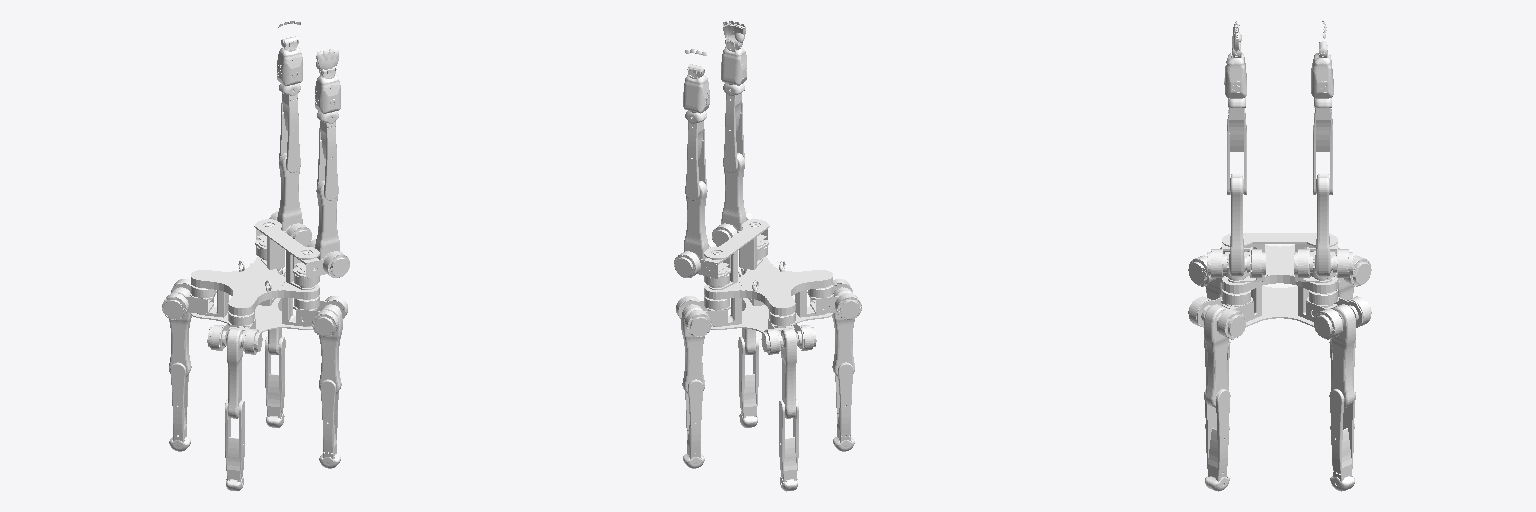
--- Facts derived from the render (not from the file) ---
The picture shows the robot from 3 angles, left to right: view 1: azimuth 30°, elevation 25°; view 2: azimuth 150°, elevation 25°; view 3: azimuth 270°, elevation 25°; orthographic projection.
Model moonbot01 with 32 links and 31 joints (24 revolute, 7 fixed), rooted at base_link, posed every joint at zero.
Visible links, largest first — view 1: body_link, left_arm_link3, right_arm_link3, f_right_leg_link1, right_arm_link1, f_right_leg_link3, b_left_leg_link3, b_left_leg_link1, f_left_leg_link3, b_right_leg_link3, b_right_leg_link1, b_right_leg_link2 (+7 smaller); view 2: body_link, right_arm_link3, left_arm_link3, f_left_leg_link1, left_arm_link1, f_left_leg_link3, b_right_leg_link3, b_right_leg_link1, f_right_leg_link3, b_left_leg_link3, b_left_leg_link1, b_left_leg_link2 (+7 smaller); view 3: body_link, f_left_leg_link3, f_right_leg_link3, f_left_leg_link1, f_right_leg_link1, f_left_leg_link2, f_right_leg_link2, left_arm_link2, right_arm_link2, left_arm_link3, right_arm_link3, right_arm_link1 (+5 smaller).
Link boxes in pixels (box(x1,y1,x2,y2)): body_link: box(190, 219, 319, 332); left_arm_link3: box(279, 83, 300, 172); right_arm_link3: box(317, 111, 338, 200); f_right_leg_link1: box(293, 295, 347, 336); right_arm_link1: box(293, 239, 349, 287); f_right_leg_link3: box(319, 380, 340, 468); b_left_leg_link3: box(169, 363, 190, 451); b_left_leg_link1: box(162, 279, 216, 319); f_left_leg_link3: box(265, 336, 285, 427); b_right_leg_link3: box(225, 399, 244, 490); b_right_leg_link1: box(207, 312, 262, 354); b_right_leg_link2: box(226, 328, 242, 418); body_link: box(704, 219, 833, 332); right_arm_link3: box(723, 83, 744, 172); left_arm_link3: box(685, 111, 706, 200); f_left_leg_link1: box(676, 295, 730, 336); left_arm_link1: box(674, 239, 730, 287); f_left_leg_link3: box(683, 380, 704, 468); b_right_leg_link3: box(833, 363, 854, 451); b_right_leg_link1: box(807, 279, 861, 319); f_right_leg_link3: box(738, 336, 758, 427); b_left_leg_link3: box(779, 399, 798, 491); b_left_leg_link1: box(761, 312, 816, 354); b_left_leg_link2: box(781, 328, 798, 418); body_link: box(1222, 233, 1337, 326); f_left_leg_link3: box(1329, 389, 1355, 491); f_right_leg_link3: box(1204, 389, 1230, 491); f_left_leg_link1: box(1306, 289, 1371, 339); f_right_leg_link1: box(1188, 289, 1253, 339); f_left_leg_link2: box(1331, 304, 1355, 407); f_right_leg_link2: box(1204, 304, 1228, 407); left_arm_link2: box(1315, 174, 1332, 276); right_arm_link2: box(1229, 174, 1246, 276); left_arm_link3: box(1313, 98, 1332, 194); right_arm_link3: box(1227, 97, 1246, 194); right_arm_link1: box(1207, 243, 1265, 280).
Bounding box of the posed robot: 0.5996 × 0.5996 × 1.69 m (x, y, z).
25 mesh visuals loaded from 13 distinct referenced files (13 binary STL).

URDF robot description (moonbot01):
<?xml version="1.0" ?>
<!-- =================================================================================== -->
<!-- |    This document was autogenerated by xacro from moonbot01.urdf.xacro           | -->
<!-- |    EDITING THIS FILE BY HAND IS NOT RECOMMENDED                                 | -->
<!-- =================================================================================== -->
<robot name="moonbot01">
  <!-- link rviz colors -->
  <material name="White">
    <color rgba="1 1 1 1"/>
  </material>
  <material name="Black">
    <color rgba="0 0 0 1"/>
  </material>
  <!-- <xacro:include filename="$(find moonbot_description)/urdf/yonaka_0722/common_gazebo.xacro"/> -->
  <!-- foot -->
  <!-- foot -->
  <ros2_control name="IsaacSystem" type="system">
    <hardware>
      <plugin>topic_based_ros2_control/TopicBasedSystem</plugin>
      <param name="joint_commands_topic">/IsaacSystem/joint_command</param>
      <param name="joint_states_topic">/IsaacSystem/joint_states</param>
      <param name="sum_wrapped_joint_states">true</param>
      <param name="use_initial_states_as_initial_commands">false</param>
      <param name="wait_for_reaching_initial_values">true</param>
    </hardware>
    <joint name="left_arm_joint1">
      <command_interface name="position">
        <param name="min">-0.2617993877991494</param>
        <param name="max">3.141592653589793</param>
      </command_interface>
      <state_interface name="position">
        <!-- Set initial joint position -->
        <param name="initial_value">3.141592653589793</param>
      </state_interface>
      <state_interface name="velocity"/>
      <state_interface name="effort"/>
    </joint>
    <joint name="left_arm_joint2">
      <command_interface name="position">
        <param name="min">-2.6179938779914944</param>
        <param name="max">2.6179938779914944</param>
      </command_interface>
      <state_interface name="position">
        <!-- Set initial joint position -->
        <param name="initial_value">1.047</param>
      </state_interface>
      <state_interface name="velocity"/>
      <state_interface name="effort"/>
    </joint>
    <joint name="left_arm_joint3">
      <command_interface name="position">
        <param name="min">-2.6179938779914944</param>
        <param name="max">2.6179938779914944</param>
      </command_interface>
      <state_interface name="position">
        <!-- Set initial joint position -->
        <param name="initial_value">-2.356</param>
      </state_interface>
      <state_interface name="velocity"/>
      <state_interface name="effort"/>
    </joint>
    <joint name="left_arm_joint4">
      <command_interface name="position">
        <param name="min">-6.283185307179586</param>
        <param name="max">6.283185307179586</param>
      </command_interface>
      <state_interface name="position">
        <!-- Set initial joint position -->
        <param name="initial_value">3.141592653589793</param>
      </state_interface>
      <state_interface name="velocity"/>
      <state_interface name="effort"/>
    </joint>
    <joint name="left_arm_joint5">
      <command_interface name="position">
        <param name="min">-0.5235987755982988</param>
        <param name="max">0.5235987755982988</param>
      </command_interface>
      <state_interface name="position">
        <!-- Set initial joint position -->
        <param name="initial_value">0.0</param>
      </state_interface>
      <state_interface name="velocity"/>
      <state_interface name="effort"/>
    </joint>
    <joint name="left_arm_joint6">
      <command_interface name="position">
        <param name="min">-1.5707963267948966</param>
        <param name="max">1.5707963267948966</param>
      </command_interface>
      <state_interface name="position">
        <!-- Set initial joint position -->
        <param name="initial_value">0.0</param>
      </state_interface>
      <state_interface name="velocity"/>
      <state_interface name="effort"/>
    </joint>
    <joint name="right_arm_joint1">
      <command_interface name="position">
        <param name="min">-0.2617993877991494</param>
        <param name="max">3.141592653589793</param>
      </command_interface>
      <state_interface name="position">
        <!-- Set initial joint position -->
        <param name="initial_value">-3.141592653589793</param>
      </state_interface>
      <state_interface name="velocity"/>
      <state_interface name="effort"/>
    </joint>
    <joint name="right_arm_joint2">
      <command_interface name="position">
        <param name="min">-2.6179938779914944</param>
        <param name="max">2.6179938779914944</param>
      </command_interface>
      <state_interface name="position">
        <!-- Set initial joint position -->
        <param name="initial_value">1.047</param>
      </state_interface>
      <state_interface name="velocity"/>
      <state_interface name="effort"/>
    </joint>
    <joint name="right_arm_joint3">
      <command_interface name="position">
        <param name="min">-2.6179938779914944</param>
        <param name="max">2.6179938779914944</param>
      </command_interface>
      <state_interface name="position">
        <!-- Set initial joint position -->
        <param name="initial_value">-2.356</param>
      </state_interface>
      <state_interface name="velocity"/>
      <state_interface name="effort"/>
    </joint>
    <joint name="right_arm_joint4">
      <command_interface name="position">
        <param name="min">-6.283185307179586</param>
        <param name="max">6.283185307179586</param>
      </command_interface>
      <state_interface name="position">
        <!-- Set initial joint position -->
        <param name="initial_value">3.141592653589793</param>
      </state_interface>
      <state_interface name="velocity"/>
      <state_interface name="effort"/>
    </joint>
    <joint name="right_arm_joint5">
      <command_interface name="position">
        <param name="min">-0.5235987755982988</param>
        <param name="max">0.5235987755982988</param>
      </command_interface>
      <state_interface name="position">
        <!-- Set initial joint position -->
        <param name="initial_value">0.0</param>
      </state_interface>
      <state_interface name="velocity"/>
      <state_interface name="effort"/>
    </joint>
    <joint name="right_arm_joint6">
      <command_interface name="position">
        <param name="min">-1.5707963267948966</param>
        <param name="max">1.5707963267948966</param>
      </command_interface>
      <state_interface name="position">
        <!-- Set initial joint position -->
        <param name="initial_value">0.0</param>
      </state_interface>
      <state_interface name="velocity"/>
      <state_interface name="effort"/>
    </joint>
    <joint name="f_left_leg_joint1">
      <command_interface name="position">
        <param name="min">-1.5707963267948966</param>
        <param name="max">1.5707963267948966</param>
      </command_interface>
      <state_interface name="position">
        <!-- Set initial joint position -->
        <param name="initial_value">0.0</param>
      </state_interface>
      <state_interface name="velocity"/>
      <state_interface name="effort"/>
    </joint>
    <joint name="f_left_leg_joint2">
      <command_interface name="position">
        <param name="min">-2.6179938779914944</param>
        <param name="max">0.17453292519943295</param>
      </command_interface>
      <state_interface name="position">
        <!-- Set initial joint position -->
        <param name="initial_value">-0.96</param>
      </state_interface>
      <state_interface name="velocity"/>
      <state_interface name="effort"/>
    </joint>
    <joint name="f_left_leg_joint3">
      <command_interface name="position">
        <param name="min">-2.792526803190927</param>
        <param name="max">2.0943951023931953</param>
      </command_interface>
      <state_interface name="position">
        <!-- Set initial joint position -->
        <param name="initial_value">1.017</param>
      </state_interface>
      <state_interface name="velocity"/>
      <state_interface name="effort"/>
    </joint>
    <joint name="f_right_leg_joint1">
      <command_interface name="position">
        <param name="min">-1.5707963267948966</param>
        <param name="max">1.5707963267948966</param>
      </command_interface>
      <state_interface name="position">
        <!-- Set initial joint position -->
        <param name="initial_value">0.0</param>
      </state_interface>
      <state_interface name="velocity"/>
      <state_interface name="effort"/>
    </joint>
    <joint name="f_right_leg_joint2">
      <command_interface name="position">
        <param name="min">-2.6179938779914944</param>
        <param name="max">0.17453292519943295</param>
      </command_interface>
      <state_interface name="position">
        <!-- Set initial joint position -->
        <param name="initial_value">-0.96</param>
      </state_interface>
      <state_interface name="velocity"/>
      <state_interface name="effort"/>
    </joint>
    <joint name="f_right_leg_joint3">
      <command_interface name="position">
        <param name="min">-2.792526803190927</param>
        <param name="max">2.0943951023931953</param>
      </command_interface>
      <state_interface name="position">
        <!-- Set initial joint position -->
        <param name="initial_value">1.017</param>
      </state_interface>
      <state_interface name="velocity"/>
      <state_interface name="effort"/>
    </joint>
    <joint name="b_left_leg_joint1">
      <command_interface name="position">
        <param name="min">-1.5707963267948966</param>
        <param name="max">1.5707963267948966</param>
      </command_interface>
      <state_interface name="position">
        <!-- Set initial joint position -->
        <param name="initial_value">0.0</param>
      </state_interface>
      <state_interface name="velocity"/>
      <state_interface name="effort"/>
    </joint>
    <joint name="b_left_leg_joint2">
      <command_interface name="position">
        <param name="min">-2.6179938779914944</param>
        <param name="max">0.17453292519943295</param>
      </command_interface>
      <state_interface name="position">
        <!-- Set initial joint position -->
        <param name="initial_value">-0.96</param>
      </state_interface>
      <state_interface name="velocity"/>
      <state_interface name="effort"/>
    </joint>
    <joint name="b_left_leg_joint3">
      <command_interface name="position">
        <param name="min">-2.792526803190927</param>
        <param name="max">2.0943951023931953</param>
      </command_interface>
      <state_interface name="position">
        <!-- Set initial joint position -->
        <param name="initial_value">1.017</param>
      </state_interface>
      <state_interface name="velocity"/>
      <state_interface name="effort"/>
    </joint>
    <joint name="b_right_leg_joint1">
      <command_interface name="position">
        <param name="min">-1.5707963267948966</param>
        <param name="max">1.5707963267948966</param>
      </command_interface>
      <state_interface name="position">
        <!-- Set initial joint position -->
        <param name="initial_value">0.0</param>
      </state_interface>
      <state_interface name="velocity"/>
      <state_interface name="effort"/>
    </joint>
    <joint name="b_right_leg_joint2">
      <command_interface name="position">
        <param name="min">-2.6179938779914944</param>
        <param name="max">0.17453292519943295</param>
      </command_interface>
      <state_interface name="position">
        <!-- Set initial joint position -->
        <param name="initial_value">-0.96</param>
      </state_interface>
      <state_interface name="velocity"/>
      <state_interface name="effort"/>
    </joint>
    <joint name="b_right_leg_joint3">
      <command_interface name="position">
        <param name="min">-2.792526803190927</param>
        <param name="max">2.0943951023931953</param>
      </command_interface>
      <state_interface name="position">
        <!-- Set initial joint position -->
        <param name="initial_value">1.017</param>
      </state_interface>
      <state_interface name="velocity"/>
      <state_interface name="effort"/>
    </joint>
  </ros2_control>
  <!-- Gazebo's ros2_control plugin  -->
  <!-- <gazebo>
        <plugin name="gazebo_ros2_control" filename="libgazebo_ros2_control.so">
            <robot_sim_type>gazebo_ros2_control/GazeboSystem</robot_sim_type>
            <robot_param>robot_description</robot_param>
            <robot_param_node>robot_state_publisher_node</robot_param_node>
            <parameters>$(find moonbot_description)/config/jtc01.yaml</parameters>
        </plugin>
    </gazebo> -->
  <!-- base link -->
  <link name="base_link"/>
  <!-- body joint -->
  <joint name="base_to_body" type="fixed">
    <origin rpy="0 0 0" xyz="0 0 0"/>
    <parent link="base_link"/>
    <child link="body_link"/>
  </joint>
  <link name="body_link">
    <visual>
      <origin rpy="0 0 0" xyz="0 0 0"/>
      <material name="White"/>
      <geometry>
        <mesh filename="package://moonbot_description/meshesY/BASE.STL" scale="0.001 0.001 0.001"/>
      </geometry>
    </visual>
    <collision>
      <origin rpy="0 0 0" xyz="0 0 0"/>
      <geometry>
        <mesh filename="package://moonbot_description/meshesY/BASE.STL" scale="0.001 0.001 0.001"/>
      </geometry>
    </collision>
    <inertial>
      <origin rpy="0 0 0" xyz="0 0 0"/>
      <mass value="9.0"/>
      <inertia ixx="0.01" ixy="0.01" ixz="0.01" iyy="0.01" iyz="0.401" izz="0.401"/>
    </inertial>
  </link>
  <!-- left arm joint -->
  <joint name="base_to_left_arm_base" type="fixed">
    <origin rpy="0 0 0" xyz="0.14142 0.14142 0.2475"/>
    <parent link="base_link"/>
    <child link="left_arm_base_link"/>
  </joint>
  <!-- foot -->
  <!-- <xacro:include filename="$(find moonbot_description)/urdf/yonaka_0722/common_gazebo.xacro" /> -->
  <!-- base link -->
  <link name="left_arm_base_link">
    <inertial>
      <mass value="0.001"/>
      <inertia ixx="0.000000" ixy="0.000000" ixz="0.000000" iyy="0.000000" iyz="0.000000" izz="0.000000"/>
    </inertial>
  </link>
  <!-- joint 1 -->
  <joint name="left_arm_joint1" type="revolute">
    <axis rpy="0 0 0" xyz="0 0 1"/>
    <limit effort="1000.0" lower="-0.2617993877991494" upper="3.141592653589793" velocity="0.5235987755982988"/>
    <origin rpy="0 0 0" xyz="0 0.0 0.0"/>
    <parent link="left_arm_base_link"/>
    <child link="left_arm_link1"/>
  </joint>
  <link name="left_arm_link1">
    <visual>
      <origin rpy="0 0 0" xyz="0 0 0"/>
      <material name="White"/>
      <geometry>
        <mesh filename="package://moonbot_description/meshesY/M_Assy_arm1.STL" scale="0.001 0.001 0.001"/>
      </geometry>
    </visual>
    <collision>
      <origin rpy="0 0 0" xyz="0 0 0"/>
      <geometry>
        <mesh filename="package://moonbot_description/meshesY/M_Assy_arm1.STL" scale="0.001 0.001 0.001"/>
      </geometry>
    </collision>
    <inertial>
      <origin rpy="0 0 0" xyz="0 0 0"/>
      <mass value="3.55"/>
      <inertia ixx="0.1" ixy="0.1" ixz="0.1" iyy="0.1" iyz="0.1" izz="0.1"/>
    </inertial>
  </link>
  <!-- joint 2 -->
  <joint name="left_arm_joint2" type="revolute">
    <axis rpy="0 0 0" xyz="0 1 0"/>
    <limit effort="1000.0" lower="-2.6179938779914944" upper="2.6179938779914944" velocity="0.5235987755982988"/>
    <origin rpy="0 0 0" xyz="0.09 0.0 -0.0"/>
    <parent link="left_arm_link1"/>
    <child link="left_arm_link2"/>
  </joint>
  <link name="left_arm_link2">
    <visual>
      <origin rpy="0 0 0" xyz="0 0 0"/>
      <material name="White"/>
      <geometry>
        <mesh filename="package://moonbot_description/meshesY/M_Assy_arm2.STL" scale="0.001 0.001 0.001"/>
      </geometry>
    </visual>
    <collision>
      <origin rpy="0 0 0" xyz="0 0 0"/>
      <geometry>
        <mesh filename="package://moonbot_description/meshesY/M_Assy_arm2.STL" scale="0.001 0.001 0.001"/>
      </geometry>
    </collision>
    <inertial>
      <origin rpy="0 0 0" xyz="0 0 0"/>
      <mass value="0.99"/>
      <inertia ixx="0.1" ixy="0.1" ixz="0.1" iyy="0.1" iyz="0.1" izz="0.1"/>
    </inertial>
  </link>
  <!-- joint 3 -->
  <joint name="left_arm_joint3" type="revolute">
    <axis rpy="0 0 0" xyz="0 1 0"/>
    <limit effort="1000.0" lower="-2.6179938779914944" upper="2.6179938779914944" velocity="0.5235987755982988"/>
    <origin rpy="0 0 0" xyz="0.0 0.0 0.28"/>
    <parent link="left_arm_link2"/>
    <child link="left_arm_link3"/>
  </joint>
  <link name="left_arm_link3">
    <visual>
      <origin rpy="0 0 0" xyz="0 0 0"/>
      <material name="White"/>
      <geometry>
        <mesh filename="package://moonbot_description/meshesY/M_Assy_arm3.STL" scale="0.001 0.001 0.001"/>
      </geometry>
    </visual>
    <collision>
      <origin rpy="0 0 0" xyz="0 0 0"/>
      <geometry>
        <mesh filename="package://moonbot_description/meshesY/M_Assy_arm3.STL" scale="0.001 0.001 0.001"/>
      </geometry>
    </collision>
    <inertial>
      <origin rpy="0 0 0" xyz="0 0 0"/>
      <mass value="0.43"/>
      <inertia ixx="0.1" ixy="0.1" ixz="0.1" iyy="0.1" iyz="0.1" izz="0.1"/>
    </inertial>
  </link>
  <!-- joint 4 -->
  <joint name="left_arm_joint4" type="revolute">
    <axis rpy="0 0 0" xyz="0 0 1"/>
    <limit effort="1000.0" lower="-6.283185307179586" upper="6.283185307179586" velocity="0.5235987755982988"/>
    <origin rpy="0 0 0" xyz="0.0 0.0 0.33"/>
    <parent link="left_arm_link3"/>
    <child link="left_arm_link4"/>
  </joint>
  <link name="left_arm_link4">
    <visual>
      <origin rpy="0 0 0" xyz="0 0 0"/>
      <material name="White"/>
      <geometry>
        <mesh filename="package://moonbot_description/meshesY/HAND_L1.STL" scale="0.001 0.001 0.001"/>
      </geometry>
    </visual>
    <collision>
      <origin rpy="0 0 0" xyz="0 0 0"/>
      <geometry>
        <mesh filename="package://moonbot_description/meshesY/HAND_L1.STL" scale="0.001 0.001 0.001"/>
      </geometry>
    </collision>
    <inertial>
      <origin rpy="0 0 0" xyz="0 0 0"/>
      <mass value="0.6"/>
      <inertia ixx="0.1" ixy="0.1" ixz="0.1" iyy="0.1" iyz="0.1" izz="0.1"/>
    </inertial>
  </link>
  <!-- joint 5 -->
  <joint name="left_arm_joint5" type="revolute">
    <axis rpy="0 0 0" xyz="0 1 0"/>
    <limit effort="1000.0" lower="-0.5235987755982988" upper="0.5235987755982988" velocity="0.5235987755982988"/>
    <origin rpy="0 0 0" xyz="0.0 0.0 0.165"/>
    <parent link="left_arm_link4"/>
    <child link="left_arm_link5"/>
  </joint>
  <link name="left_arm_link5">
    <visual>
      <origin rpy="0 0 0" xyz="0 0 -0.165"/>
      <material name="White"/>
      <geometry>
        <mesh filename="package://moonbot_description/meshesY/HAND_L2.STL" scale="0.001 0.001 0.001"/>
      </geometry>
    </visual>
    <collision>
      <origin rpy="0 0 0" xyz="0 0 -0.165"/>
      <geometry>
        <mesh filename="package://moonbot_description/meshesY/HAND_L2.STL" scale="0.001 0.001 0.001"/>
      </geometry>
    </collision>
    <inertial>
      <origin rpy="0 0 0" xyz="0 0 -0.165"/>
      <mass value="0.08"/>
      <inertia ixx="0.1" ixy="0.1" ixz="0.1" iyy="0.1" iyz="0.1" izz="0.1"/>
    </inertial>
  </link>
  <!-- joint 6 -->
  <joint name="left_arm_joint6" type="revolute">
    <axis rpy="0 0 0" xyz="1 0 0"/>
    <limit effort="1000.0" lower="-1.5707963267948966" upper="1.5707963267948966" velocity="0.5235987755982988"/>
    <origin rpy="0 0 0" xyz="0.0 0.0 0.0"/>
    <parent link="left_arm_link5"/>
    <child link="left_arm_link6"/>
  </joint>
  <link name="left_arm_link6">
    <visual>
      <origin rpy="0 0 0" xyz="0 0 -0.165"/>
      <material name="White"/>
      <geometry>
        <mesh filename="package://moonbot_description/meshesY/HAND_L3.STL" scale="0.001 0.001 0.001"/>
      </geometry>
    </visual>
    <collision>
      <origin rpy="0 0 0" xyz="0 0 -0.165"/>
      <geometry>
        <mesh filename="package://moonbot_description/meshesY/HAND_L3.STL" scale="0.001 0.001 0.001"/>
      </geometry>
    </collision>
    <inertial>
      <origin rpy="0 0 0" xyz="0 0 -0.165"/>
      <mass value="0.08"/>
      <inertia ixx="0.1" ixy="0.1" ixz="0.1" iyy="0.1" iyz="0.1" izz="0.1"/>
    </inertial>
  </link>
  <!-- finger link -->
  <!-- <xacro:if value="${prefix == 'left_'}">
      <xacro:link name="${prefix}finger_link1" material="White" mesh="HAND_L4.STL" mass="0.01" ixx="0.1" ixy="0.1" ixz="0.1" iyy="0.1" iyz="0.1" izz="0.1" xyz='0 0 -0.165'/>
      <xacro:link name="${prefix}finger_link2" material="White" mesh="HAND_L5.STL" mass="0.01" ixx="0.1" ixy="0.1" ixz="0.1" iyy="0.1" iyz="0.1" izz="0.1" xyz='0 0 -0.165'/>
      <xacro:link name="${prefix}finger_link3" material="White" mesh="HAND_L6.STL" mass="0.01" ixx="0.1" ixy="0.1" ixz="0.1" iyy="0.1" iyz="0.1" izz="0.1" xyz='0 0 -0.165'/>
      <xacro:link name="${prefix}finger_link4" material="White" mesh="HAND_L7.STL" mass="0.01" ixx="0.1" ixy="0.1" ixz="0.1" iyy="0.1" iyz="0.1" izz="0.1" xyz='0 0 -0.165'/>
      <xacro:link name="${prefix}finger_link5" material="White" mesh="HAND_L8.STL" mass="0.01" ixx="0.1" ixy="0.1" ixz="0.1" iyy="0.1" iyz="0.1" izz="0.1" xyz='0 0 -0.165'/>
    </xacro:if>
    <xacro:if value="${prefix == 'right_'}">
      <xacro:link name="${prefix}finger_link1" material="White" mesh="HAND_R4.STL" mass="0.01" ixx="0.1" ixy="0.1" ixz="0.1" iyy="0.1" iyz="0.1" izz="0.1" xyz='0 0 -0.165'/>
      <xacro:link name="${prefix}finger_link2" material="White" mesh="HAND_R5.STL" mass="0.01" ixx="0.1" ixy="0.1" ixz="0.1" iyy="0.1" iyz="0.1" izz="0.1" xyz='0 0 -0.165'/>
      <xacro:link name="${prefix}finger_link3" material="White" mesh="HAND_R6.STL" mass="0.01" ixx="0.1" ixy="0.1" ixz="0.1" iyy="0.1" iyz="0.1" izz="0.1" xyz='0 0 -0.165'/>
      <xacro:link name="${prefix}finger_link4" material="White" mesh="HAND_R7.STL" mass="0.01" ixx="0.1" ixy="0.1" ixz="0.1" iyy="0.1" iyz="0.1" izz="0.1" xyz='0 0 -0.165'/>
      <xacro:link name="${prefix}finger_link5" material="White" mesh="HAND_R8.STL" mass="0.01" ixx="0.1" ixy="0.1" ixz="0.1" iyy="0.1" iyz="0.1" izz="0.1" xyz='0 0 -0.165'/>
    </xacro:if> -->
  <!-- finger joint -->
  <!-- <joint name="${prefix}finger_joint1" type="fixed">
      <origin xyz="0.0 0.0 0.0" rpy="0 0 0"/>
      <parent link="${prefix}arm_link6"/>
      <child link="${prefix}finger_link1"/>
    </joint> -->
  <!-- <joint name="${prefix}finger_joint2" type="fixed">
      <origin xyz="0.0 0.0 0.0" rpy="0 0 0"/>
      <parent link="${prefix}arm_link6"/>
      <child link="${prefix}finger_link2"/>
    </joint> -->
  <!-- <joint name="${prefix}finger_joint3" type="fixed">
      <origin xyz="0.0 0.0 0.0" rpy="0 0 0"/>
      <parent link="${prefix}arm_link6"/>
      <child link="${prefix}finger_link3"/>
    </joint> -->
  <!-- <joint name="${prefix}finger_joint4" type="fixed">
      <origin xyz="0.0 0.0 0.0" rpy="0 0 0"/>
      <parent link="${prefix}arm_link6"/>
      <child link="${prefix}finger_link4"/>
    </joint> -->
  <!-- <joint name="${prefix}finger_joint5" type="fixed">
      <origin xyz="0.0 0.0 0.0" rpy="0 0 0"/>
      <parent link="${prefix}arm_link6"/>
      <child link="${prefix}finger_link5"/>
    </joint>  -->
  <!-- <xacro:transmission joint="${prefix}arm_joint1"/>
    <xacro:transmission joint="${prefix}arm_joint2"/>
    <xacro:transmission joint="${prefix}arm_joint3"/>
    <xacro:transmission joint="${prefix}arm_joint4"/> -->
  <!-- right arm joint -->
  <joint name="base_to_right_arm_base" type="fixed">
    <origin rpy="0 0 -0" xyz="0.14142 -0.14142 0.2475"/>
    <parent link="base_link"/>
    <child link="right_arm_base_link"/>
  </joint>
  <!-- foot -->
  <!-- <xacro:include filename="$(find moonbot_description)/urdf/yonaka_0722/common_gazebo.xacro" /> -->
  <!-- base link -->
  <link name="right_arm_base_link">
    <inertial>
      <mass value="0.001"/>
      <inertia ixx="0.000000" ixy="0.000000" ixz="0.000000" iyy="0.000000" iyz="0.000000" izz="0.000000"/>
    </inertial>
  </link>
  <!-- joint 1 -->
  <joint name="right_arm_joint1" type="revolute">
    <axis rpy="0 0 0" xyz="0 0 1"/>
    <limit effort="1000.0" lower="-3.141592653589793" upper="0.2617993877991494" velocity="-0.5235987755982988"/>
    <origin rpy="0 0 0" xyz="0 0.0 0.0"/>
    <parent link="right_arm_base_link"/>
    <child link="right_arm_link1"/>
  </joint>
  <link name="right_arm_link1">
    <visual>
      <origin rpy="0 0 0" xyz="0 0 0"/>
      <material name="White"/>
      <geometry>
        <mesh filename="package://moonbot_description/meshesY/M_Assy_arm1.STL" scale="0.001 0.001 0.001"/>
      </geometry>
    </visual>
    <collision>
      <origin rpy="0 0 0" xyz="0 0 0"/>
      <geometry>
        <mesh filename="package://moonbot_description/meshesY/M_Assy_arm1.STL" scale="0.001 0.001 0.001"/>
      </geometry>
    </collision>
    <inertial>
      <origin rpy="0 0 0" xyz="0 0 0"/>
      <mass value="3.55"/>
      <inertia ixx="0.1" ixy="0.1" ixz="0.1" iyy="0.1" iyz="0.1" izz="0.1"/>
    </inertial>
  </link>
  <!-- joint 2 -->
  <joint name="right_arm_joint2" type="revolute">
    <axis rpy="0 0 0" xyz="0 1 0"/>
    <limit effort="1000.0" lower="-2.6179938779914944" upper="2.6179938779914944" velocity="0.5235987755982988"/>
    <origin rpy="0 0 0" xyz="0.09 0.0 -0.0"/>
    <parent link="right_arm_link1"/>
    <child link="right_arm_link2"/>
  </joint>
  <link name="right_arm_link2">
    <visual>
      <origin rpy="0 0 0" xyz="0 0 0"/>
      <material name="White"/>
      <geometry>
        <mesh filename="package://moonbot_description/meshesY/M_Assy_arm2.STL" scale="0.001 0.001 0.001"/>
      </geometry>
    </visual>
    <collision>
      <origin rpy="0 0 0" xyz="0 0 0"/>
      <geometry>
        <mesh filename="package://moonbot_description/meshesY/M_Assy_arm2.STL" scale="0.001 0.001 0.001"/>
      </geometry>
    </collision>
    <inertial>
      <origin rpy="0 0 0" xyz="0 0 0"/>
      <mass value="0.99"/>
      <inertia ixx="0.1" ixy="0.1" ixz="0.1" iyy="0.1" iyz="0.1" izz="0.1"/>
    </inertial>
  </link>
  <!-- joint 3 -->
  <joint name="right_arm_joint3" type="revolute">
    <axis rpy="0 0 0" xyz="0 1 0"/>
    <limit effort="1000.0" lower="-2.6179938779914944" upper="2.6179938779914944" velocity="0.5235987755982988"/>
    <origin rpy="0 0 0" xyz="0.0 0.0 0.28"/>
    <parent link="right_arm_link2"/>
    <child link="right_arm_link3"/>
  </joint>
  <link name="right_arm_link3">
    <visual>
      <origin rpy="0 0 0" xyz="0 0 0"/>
      <material name="White"/>
      <geometry>
        <mesh filename="package://moonbot_description/meshesY/M_Assy_arm3.STL" scale="0.001 0.001 0.001"/>
      </geometry>
    </visual>
    <collision>
      <origin rpy="0 0 0" xyz="0 0 0"/>
      <geometry>
        <mesh filename="package://moonbot_description/meshesY/M_Assy_arm3.STL" scale="0.001 0.001 0.001"/>
      </geometry>
    </collision>
    <inertial>
      <origin rpy="0 0 0" xyz="0 0 0"/>
      <mass value="0.43"/>
      <inertia ixx="0.1" ixy="0.1" ixz="0.1" iyy="0.1" iyz="0.1" izz="0.1"/>
    </inertial>
  </link>
  <!-- joint 4 -->
  <joint name="right_arm_joint4" type="revolute">
    <axis rpy="0 0 0" xyz="0 0 1"/>
    <limit effort="1000.0" lower="-6.283185307179586" upper="6.283185307179586" velocity="0.5235987755982988"/>
    <origin rpy="0 0 0" xyz="0.0 0.0 0.33"/>
    <parent link="right_arm_link3"/>
    <child link="right_arm_link4"/>
  </joint>
  <link name="right_arm_link4">
    <visual>
      <origin rpy="0 0 0" xyz="0 0 0"/>
      <material name="White"/>
      <geometry>
        <mesh filename="package://moonbot_description/meshesY/HAND_R1.STL" scale="0.001 0.001 0.001"/>
      </geometry>
    </visual>
    <collision>
      <origin rpy="0 0 0" xyz="0 0 0"/>
      <geometry>
        <mesh filename="package://moonbot_description/meshesY/HAND_R1.STL" scale="0.001 0.001 0.001"/>
      </geometry>
    </collision>
    <inertial>
      <origin rpy="0 0 0" xyz="0 0 0"/>
      <mass value="0.6"/>
      <inertia ixx="0.1" ixy="0.1" ixz="0.1" iyy="0.1" iyz="0.1" izz="0.1"/>
    </inertial>
  </link>
  <!-- joint 5 -->
  <joint name="right_arm_joint5" type="revolute">
    <axis rpy="0 0 0" xyz="0 1 0"/>
    <limit effort="1000.0" lower="-0.5235987755982988" upper="0.5235987755982988" velocity="0.5235987755982988"/>
    <origin rpy="0 0 0" xyz="0.0 0.0 0.165"/>
    <parent link="right_arm_link4"/>
    <child link="right_arm_link5"/>
  </joint>
  <link name="right_arm_link5">
    <visual>
      <origin rpy="0 0 0" xyz="0 0 -0.165"/>
      <material name="White"/>
      <geometry>
        <mesh filename="package://moonbot_description/meshesY/HAND_R2.STL" scale="0.001 0.001 0.001"/>
      </geometry>
    </visual>
    <collision>
      <origin rpy="0 0 0" xyz="0 0 -0.165"/>
      <geometry>
        <mesh filename="package://moonbot_description/meshesY/HAND_R2.STL" scale="0.001 0.001 0.001"/>
      </geometry>
    </collision>
    <inertial>
      <origin rpy="0 0 0" xyz="0 0 -0.165"/>
      <mass value="0.08"/>
      <inertia ixx="0.1" ixy="0.1" ixz="0.1" iyy="0.1" iyz="0.1" izz="0.1"/>
    </inertial>
  </link>
  <!-- joint 6 -->
  <joint name="right_arm_joint6" type="revolute">
    <axis rpy="0 0 0" xyz="1 0 0"/>
    <limit effort="1000.0" lower="-1.5707963267948966" upper="1.5707963267948966" velocity="0.5235987755982988"/>
    <origin rpy="0 0 0" xyz="0.0 0.0 0.0"/>
    <parent link="right_arm_link5"/>
    <child link="right_arm_link6"/>
  </joint>
  <link name="right_arm_link6">
    <visual>
      <origin rpy="0 0 0" xyz="0 0 -0.165"/>
      <material name="White"/>
      <geometry>
        <mesh filename="package://moonbot_description/meshesY/HAND_R3.STL" scale="0.001 0.001 0.001"/>
      </geometry>
    </visual>
    <collision>
      <origin rpy="0 0 0" xyz="0 0 -0.165"/>
      <geometry>
        <mesh filename="package://moonbot_description/meshesY/HAND_R3.STL" scale="0.001 0.001 0.001"/>
      </geometry>
    </collision>
    <inertial>
      <origin rpy="0 0 0" xyz="0 0 -0.165"/>
      <mass value="0.08"/>
      <inertia ixx="0.1" ixy="0.1" ixz="0.1" iyy="0.1" iyz="0.1" izz="0.1"/>
    </inertial>
  </link>
  <!-- finger link -->
  <!-- <xacro:if value="${prefix == 'left_'}">
      <xacro:link name="${prefix}finger_link1" material="White" mesh="HAND_L4.STL" mass="0.01" ixx="0.1" ixy="0.1" ixz="0.1" iyy="0.1" iyz="0.1" izz="0.1" xyz='0 0 -0.165'/>
      <xacro:link name="${prefix}finger_link2" material="White" mesh="HAND_L5.STL" mass="0.01" ixx="0.1" ixy="0.1" ixz="0.1" iyy="0.1" iyz="0.1" izz="0.1" xyz='0 0 -0.165'/>
      <xacro:link name="${prefix}finger_link3" material="White" mesh="HAND_L6.STL" mass="0.01" ixx="0.1" ixy="0.1" ixz="0.1" iyy="0.1" iyz="0.1" izz="0.1" xyz='0 0 -0.165'/>
      <xacro:link name="${prefix}finger_link4" material="White" mesh="HAND_L7.STL" mass="0.01" ixx="0.1" ixy="0.1" ixz="0.1" iyy="0.1" iyz="0.1" izz="0.1" xyz='0 0 -0.165'/>
      <xacro:link name="${prefix}finger_link5" material="White" mesh="HAND_L8.STL" mass="0.01" ixx="0.1" ixy="0.1" ixz="0.1" iyy="0.1" iyz="0.1" izz="0.1" xyz='0 0 -0.165'/>
    </xacro:if>
    <xacro:if value="${prefix == 'right_'}">
      <xacro:link name="${prefix}finger_link1" material="White" mesh="HAND_R4.STL" mass="0.01" ixx="0.1" ixy="0.1" ixz="0.1" iyy="0.1" iyz="0.1" izz="0.1" xyz='0 0 -0.165'/>
      <xacro:link name="${prefix}finger_link2" material="White" mesh="HAND_R5.STL" mass="0.01" ixx="0.1" ixy="0.1" ixz="0.1" iyy="0.1" iyz="0.1" izz="0.1" xyz='0 0 -0.165'/>
      <xacro:link name="${prefix}finger_link3" material="White" mesh="HAND_R6.STL" mass="0.01" ixx="0.1" ixy="0.1" ixz="0.1" iyy="0.1" iyz="0.1" izz="0.1" xyz='0 0 -0.165'/>
      <xacro:link name="${prefix}finger_link4" material="White" mesh="HAND_R7.STL" mass="0.01" ixx="0.1" ixy="0.1" ixz="0.1" iyy="0.1" iyz="0.1" izz="0.1" xyz='0 0 -0.165'/>
      <xacro:link name="${prefix}finger_link5" material="White" mesh="HAND_R8.STL" mass="0.01" ixx="0.1" ixy="0.1" ixz="0.1" iyy="0.1" iyz="0.1" izz="0.1" xyz='0 0 -0.165'/>
    </xacro:if> -->
  <!-- finger joint -->
  <!-- <joint name="${prefix}finger_joint1" type="fixed">
      <origin xyz="0.0 0.0 0.0" rpy="0 0 0"/>
      <parent link="${prefix}arm_link6"/>
      <child link="${prefix}finger_link1"/>
    </joint> -->
  <!-- <joint name="${prefix}finger_joint2" type="fixed">
      <origin xyz="0.0 0.0 0.0" rpy="0 0 0"/>
      <parent link="${prefix}arm_link6"/>
      <child link="${prefix}finger_link2"/>
    </joint> -->
  <!-- <joint name="${prefix}finger_joint3" type="fixed">
      <origin xyz="0.0 0.0 0.0" rpy="0 0 0"/>
      <parent link="${prefix}arm_link6"/>
      <child link="${prefix}finger_link3"/>
    </joint> -->
  <!-- <joint name="${prefix}finger_joint4" type="fixed">
      <origin xyz="0.0 0.0 0.0" rpy="0 0 0"/>
      <parent link="${prefix}arm_link6"/>
      <child link="${prefix}finger_link4"/>
    </joint> -->
  <!-- <joint name="${prefix}finger_joint5" type="fixed">
      <origin xyz="0.0 0.0 0.0" rpy="0 0 0"/>
      <parent link="${prefix}arm_link6"/>
      <child link="${prefix}finger_link5"/>
    </joint>  -->
  <!-- <xacro:transmission joint="${prefix}arm_joint1"/>
    <xacro:transmission joint="${prefix}arm_joint2"/>
    <xacro:transmission joint="${prefix}arm_joint3"/>
    <xacro:transmission joint="${prefix}arm_joint4"/> -->
  <!-- forward left leg joint -->
  <joint name="base_to_f_left_leg_base" type="fixed">
    <origin rpy="0 0 0.7854" xyz="0.14142 0.14142 0.0395"/>
    <parent link="base_link"/>
    <child link="f_left_leg_base_link"/>
  </joint>
  <!-- foot -->
  <!-- <xacro:include filename="$(find moonbot_description)/urdf/yonaka_0722/common_gazebo.xacro" /> -->
  <!-- base link -->
  <link name="f_left_leg_base_link">
    <inertial>
      <mass value="0.001"/>
      <inertia ixx="0.000000" ixy="0.000000" ixz="0.000000" iyy="0.000000" iyz="0.000000" izz="0.000000"/>
    </inertial>
  </link>
  <!-- joint 1 -->
  <joint name="f_left_leg_joint1" type="revolute">
    <axis rpy="0 0 0" xyz="0 0 1"/>
    <limit effort="1000.0" lower="-1.5707963267948966" upper="1.5707963267948966" velocity="3.141592653589793"/>
    <origin rpy="0 0 0" xyz="0 0.0 0.0"/>
    <parent link="f_left_leg_base_link"/>
    <child link="f_left_leg_link1"/>
  </joint>
  <link name="f_left_leg_link1">
    <visual>
      <origin rpy="0 0 0" xyz="0 0 0"/>
      <material name="White"/>
      <geometry>
        <mesh filename="package://moonbot_description/meshesY/M_Assy1.STL" scale="0.001 0.001 0.001"/>
      </geometry>
    </visual>
    <collision>
      <origin rpy="0 0 0" xyz="0 0 0"/>
      <geometry>
        <mesh filename="package://moonbot_description/meshesY/M_Assy1.STL" scale="0.001 0.001 0.001"/>
      </geometry>
    </collision>
    <inertial>
      <origin rpy="0 0 0" xyz="0 0 0"/>
      <mass value="3.55"/>
      <inertia ixx="0.1" ixy="0.1" ixz="0.1" iyy="0.1" iyz="0.1" izz="0.1"/>
    </inertial>
  </link>
  <!-- joint 2 -->
  <joint name="f_left_leg_joint2" type="revolute">
    <axis rpy="0 0 0" xyz="0 1 0"/>
    <limit effort="1000.0" lower="-2.6179938779914944" upper="0.17453292519943295" velocity="3.141592653589793"/>
    <origin rpy="0 0 0" xyz="0.09 0.0 -0.0"/>
    <parent link="f_left_leg_link1"/>
    <child link="f_left_leg_link2"/>
  </joint>
  <link name="f_left_leg_link2">
    <visual>
      <origin rpy="0 0 0" xyz="0 0 0"/>
      <material name="White"/>
      <geometry>
        <mesh filename="package://moonbot_description/meshesY/M_Assy2.STL" scale="0.001 0.001 0.001"/>
      </geometry>
    </visual>
    <collision>
      <origin rpy="0 0 0" xyz="0 0 0"/>
      <geometry>
        <mesh filename="package://moonbot_description/meshesY/M_Assy2.STL" scale="0.001 0.001 0.001"/>
      </geometry>
    </collision>
    <inertial>
      <origin rpy="0 0 0" xyz="0 0 0"/>
      <mass value="0.99"/>
      <inertia ixx="0.1" ixy="0.1" ixz="0.1" iyy="0.1" iyz="0.1" izz="0.1"/>
    </inertial>
  </link>
  <!-- joint 3 -->
  <joint name="f_left_leg_joint3" type="revolute">
    <axis rpy="0 0 0" xyz="0 1 0"/>
    <limit effort="1000.0" lower="-2.792526803190927" upper="2.0943951023931953" velocity="3.141592653589793"/>
    <origin rpy="0 0 0" xyz="0.0 0 -0.28"/>
    <parent link="f_left_leg_link2"/>
    <child link="f_left_leg_link3"/>
  </joint>
  <link name="f_left_leg_link3">
    <visual>
      <origin rpy="0 0 0" xyz="0 0 0"/>
      <material name="White"/>
      <geometry>
        <mesh filename="package://moonbot_description/meshesY/M_Assy3.STL" scale="0.001 0.001 0.001"/>
      </geometry>
    </visual>
    <collision>
      <origin rpy="0 0 0" xyz="0 0 0"/>
      <geometry>
        <mesh filename="package://moonbot_description/meshesY/M_Assy3.STL" scale="0.001 0.001 0.001"/>
      </geometry>
    </collision>
    <inertial>
      <origin rpy="0 0 0" xyz="0 0 0"/>
      <mass value="0.43"/>
      <inertia ixx="0.1" ixy="0.1" ixz="0.1" iyy="0.1" iyz="0.1" izz="0.1"/>
    </inertial>
  </link>
  <!-- <xacro:transmission joint="${prefix}leg_joint1"/>
    <xacro:transmission joint="${prefix}leg_joint2"/>
    <xacro:transmission joint="${prefix}leg_joint3"/> -->
  <!-- forward right leg joint -->
  <joint name="base_to_f_right_leg_base" type="fixed">
    <origin rpy="0 0 -0.7854" xyz="0.14142 -0.14142 0.0395"/>
    <parent link="base_link"/>
    <child link="f_right_leg_base_link"/>
  </joint>
  <!-- foot -->
  <!-- <xacro:include filename="$(find moonbot_description)/urdf/yonaka_0722/common_gazebo.xacro" /> -->
  <!-- base link -->
  <link name="f_right_leg_base_link">
    <inertial>
      <mass value="0.001"/>
      <inertia ixx="0.000000" ixy="0.000000" ixz="0.000000" iyy="0.000000" iyz="0.000000" izz="0.000000"/>
    </inertial>
  </link>
  <!-- joint 1 -->
  <joint name="f_right_leg_joint1" type="revolute">
    <axis rpy="0 0 0" xyz="0 0 1"/>
    <limit effort="1000.0" lower="-1.5707963267948966" upper="1.5707963267948966" velocity="3.141592653589793"/>
    <origin rpy="0 0 0" xyz="0 0.0 0.0"/>
    <parent link="f_right_leg_base_link"/>
    <child link="f_right_leg_link1"/>
  </joint>
  <link name="f_right_leg_link1">
    <visual>
      <origin rpy="0 0 0" xyz="0 0 0"/>
      <material name="White"/>
      <geometry>
        <mesh filename="package://moonbot_description/meshesY/M_Assy1.STL" scale="0.001 0.001 0.001"/>
      </geometry>
    </visual>
    <collision>
      <origin rpy="0 0 0" xyz="0 0 0"/>
      <geometry>
        <mesh filename="package://moonbot_description/meshesY/M_Assy1.STL" scale="0.001 0.001 0.001"/>
      </geometry>
    </collision>
    <inertial>
      <origin rpy="0 0 0" xyz="0 0 0"/>
      <mass value="3.55"/>
      <inertia ixx="0.1" ixy="0.1" ixz="0.1" iyy="0.1" iyz="0.1" izz="0.1"/>
    </inertial>
  </link>
  <!-- joint 2 -->
  <joint name="f_right_leg_joint2" type="revolute">
    <axis rpy="0 0 0" xyz="0 1 0"/>
    <limit effort="1000.0" lower="-2.6179938779914944" upper="0.17453292519943295" velocity="3.141592653589793"/>
    <origin rpy="0 0 0" xyz="0.09 0.0 -0.0"/>
    <parent link="f_right_leg_link1"/>
    <child link="f_right_leg_link2"/>
  </joint>
  <link name="f_right_leg_link2">
    <visual>
      <origin rpy="0 0 0" xyz="0 0 0"/>
      <material name="White"/>
      <geometry>
        <mesh filename="package://moonbot_description/meshesY/M_Assy2.STL" scale="0.001 0.001 0.001"/>
      </geometry>
    </visual>
    <collision>
      <origin rpy="0 0 0" xyz="0 0 0"/>
      <geometry>
        <mesh filename="package://moonbot_description/meshesY/M_Assy2.STL" scale="0.001 0.001 0.001"/>
      </geometry>
    </collision>
    <inertial>
      <origin rpy="0 0 0" xyz="0 0 0"/>
      <mass value="0.99"/>
      <inertia ixx="0.1" ixy="0.1" ixz="0.1" iyy="0.1" iyz="0.1" izz="0.1"/>
    </inertial>
  </link>
  <!-- joint 3 -->
  <joint name="f_right_leg_joint3" type="revolute">
    <axis rpy="0 0 0" xyz="0 1 0"/>
    <limit effort="1000.0" lower="-2.792526803190927" upper="2.0943951023931953" velocity="3.141592653589793"/>
    <origin rpy="0 0 0" xyz="0.0 0 -0.28"/>
    <parent link="f_right_leg_link2"/>
    <child link="f_right_leg_link3"/>
  </joint>
  <link name="f_right_leg_link3">
    <visual>
      <origin rpy="0 0 0" xyz="0 0 0"/>
      <material name="White"/>
      <geometry>
        <mesh filename="package://moonbot_description/meshesY/M_Assy3.STL" scale="0.001 0.001 0.001"/>
      </geometry>
    </visual>
    <collision>
      <origin rpy="0 0 0" xyz="0 0 0"/>
      <geometry>
        <mesh filename="package://moonbot_description/meshesY/M_Assy3.STL" scale="0.001 0.001 0.001"/>
      </geometry>
    </collision>
    <inertial>
      <origin rpy="0 0 0" xyz="0 0 0"/>
      <mass value="0.43"/>
      <inertia ixx="0.1" ixy="0.1" ixz="0.1" iyy="0.1" iyz="0.1" izz="0.1"/>
    </inertial>
  </link>
  <!-- <xacro:transmission joint="${prefix}leg_joint1"/>
    <xacro:transmission joint="${prefix}leg_joint2"/>
    <xacro:transmission joint="${prefix}leg_joint3"/> -->
  <!-- back left leg joint -->
  <joint name="base_to_b_left_leg_base" type="fixed">
    <origin rpy="0 0 2.3562" xyz="-0.14142 0.14142 0.0395"/>
    <parent link="base_link"/>
    <child link="b_left_leg_base_link"/>
  </joint>
  <!-- foot -->
  <!-- <xacro:include filename="$(find moonbot_description)/urdf/yonaka_0722/common_gazebo.xacro" /> -->
  <!-- base link -->
  <link name="b_left_leg_base_link">
    <inertial>
      <mass value="0.001"/>
      <inertia ixx="0.000000" ixy="0.000000" ixz="0.000000" iyy="0.000000" iyz="0.000000" izz="0.000000"/>
    </inertial>
  </link>
  <!-- joint 1 -->
  <joint name="b_left_leg_joint1" type="revolute">
    <axis rpy="0 0 0" xyz="0 0 1"/>
    <limit effort="1000.0" lower="-1.5707963267948966" upper="1.5707963267948966" velocity="3.141592653589793"/>
    <origin rpy="0 0 0" xyz="0 0.0 0.0"/>
    <parent link="b_left_leg_base_link"/>
    <child link="b_left_leg_link1"/>
  </joint>
  <link name="b_left_leg_link1">
    <visual>
      <origin rpy="0 0 0" xyz="0 0 0"/>
      <material name="White"/>
      <geometry>
        <mesh filename="package://moonbot_description/meshesY/M_Assy1.STL" scale="0.001 0.001 0.001"/>
      </geometry>
    </visual>
    <collision>
      <origin rpy="0 0 0" xyz="0 0 0"/>
      <geometry>
        <mesh filename="package://moonbot_description/meshesY/M_Assy1.STL" scale="0.001 0.001 0.001"/>
      </geometry>
    </collision>
    <inertial>
      <origin rpy="0 0 0" xyz="0 0 0"/>
      <mass value="3.55"/>
      <inertia ixx="0.1" ixy="0.1" ixz="0.1" iyy="0.1" iyz="0.1" izz="0.1"/>
    </inertial>
  </link>
  <!-- joint 2 -->
  <joint name="b_left_leg_joint2" type="revolute">
    <axis rpy="0 0 0" xyz="0 1 0"/>
    <limit effort="1000.0" lower="-2.6179938779914944" upper="0.17453292519943295" velocity="3.141592653589793"/>
    <origin rpy="0 0 0" xyz="0.09 0.0 -0.0"/>
    <parent link="b_left_leg_link1"/>
    <child link="b_left_leg_link2"/>
  </joint>
  <link name="b_left_leg_link2">
    <visual>
      <origin rpy="0 0 0" xyz="0 0 0"/>
      <material name="White"/>
      <geometry>
        <mesh filename="package://moonbot_description/meshesY/M_Assy2.STL" scale="0.001 0.001 0.001"/>
      </geometry>
    </visual>
    <collision>
      <origin rpy="0 0 0" xyz="0 0 0"/>
      <geometry>
        <mesh filename="package://moonbot_description/meshesY/M_Assy2.STL" scale="0.001 0.001 0.001"/>
      </geometry>
    </collision>
    <inertial>
      <origin rpy="0 0 0" xyz="0 0 0"/>
      <mass value="0.99"/>
      <inertia ixx="0.1" ixy="0.1" ixz="0.1" iyy="0.1" iyz="0.1" izz="0.1"/>
    </inertial>
  </link>
  <!-- joint 3 -->
  <joint name="b_left_leg_joint3" type="revolute">
    <axis rpy="0 0 0" xyz="0 1 0"/>
    <limit effort="1000.0" lower="-2.792526803190927" upper="2.0943951023931953" velocity="3.141592653589793"/>
    <origin rpy="0 0 0" xyz="0.0 0 -0.28"/>
    <parent link="b_left_leg_link2"/>
    <child link="b_left_leg_link3"/>
  </joint>
  <link name="b_left_leg_link3">
    <visual>
      <origin rpy="0 0 0" xyz="0 0 0"/>
      <material name="White"/>
      <geometry>
        <mesh filename="package://moonbot_description/meshesY/M_Assy3.STL" scale="0.001 0.001 0.001"/>
      </geometry>
    </visual>
    <collision>
      <origin rpy="0 0 0" xyz="0 0 0"/>
      <geometry>
        <mesh filename="package://moonbot_description/meshesY/M_Assy3.STL" scale="0.001 0.001 0.001"/>
      </geometry>
    </collision>
    <inertial>
      <origin rpy="0 0 0" xyz="0 0 0"/>
      <mass value="0.43"/>
      <inertia ixx="0.1" ixy="0.1" ixz="0.1" iyy="0.1" iyz="0.1" izz="0.1"/>
    </inertial>
  </link>
  <!-- <xacro:transmission joint="${prefix}leg_joint1"/>
    <xacro:transmission joint="${prefix}leg_joint2"/>
    <xacro:transmission joint="${prefix}leg_joint3"/> -->
  <!-- back right leg joint -->
  <joint name="base_to_b_right_leg_base" type="fixed">
    <origin rpy="0 0 -2.3562" xyz="-0.14142 -0.14142 0.0395"/>
    <parent link="base_link"/>
    <child link="b_right_leg_base_link"/>
  </joint>
  <!-- foot -->
  <!-- <xacro:include filename="$(find moonbot_description)/urdf/yonaka_0722/common_gazebo.xacro" /> -->
  <!-- base link -->
  <link name="b_right_leg_base_link">
    <inertial>
      <mass value="0.001"/>
      <inertia ixx="0.000000" ixy="0.000000" ixz="0.000000" iyy="0.000000" iyz="0.000000" izz="0.000000"/>
    </inertial>
  </link>
  <!-- joint 1 -->
  <joint name="b_right_leg_joint1" type="revolute">
    <axis rpy="0 0 0" xyz="0 0 1"/>
    <limit effort="1000.0" lower="-1.5707963267948966" upper="1.5707963267948966" velocity="3.141592653589793"/>
    <origin rpy="0 0 0" xyz="0 0.0 0.0"/>
    <parent link="b_right_leg_base_link"/>
    <child link="b_right_leg_link1"/>
  </joint>
  <link name="b_right_leg_link1">
    <visual>
      <origin rpy="0 0 0" xyz="0 0 0"/>
      <material name="White"/>
      <geometry>
        <mesh filename="package://moonbot_description/meshesY/M_Assy1.STL" scale="0.001 0.001 0.001"/>
      </geometry>
    </visual>
    <collision>
      <origin rpy="0 0 0" xyz="0 0 0"/>
      <geometry>
        <mesh filename="package://moonbot_description/meshesY/M_Assy1.STL" scale="0.001 0.001 0.001"/>
      </geometry>
    </collision>
    <inertial>
      <origin rpy="0 0 0" xyz="0 0 0"/>
      <mass value="3.55"/>
      <inertia ixx="0.1" ixy="0.1" ixz="0.1" iyy="0.1" iyz="0.1" izz="0.1"/>
    </inertial>
  </link>
  <!-- joint 2 -->
  <joint name="b_right_leg_joint2" type="revolute">
    <axis rpy="0 0 0" xyz="0 1 0"/>
    <limit effort="1000.0" lower="-2.6179938779914944" upper="0.17453292519943295" velocity="3.141592653589793"/>
    <origin rpy="0 0 0" xyz="0.09 0.0 -0.0"/>
    <parent link="b_right_leg_link1"/>
    <child link="b_right_leg_link2"/>
  </joint>
  <link name="b_right_leg_link2">
    <visual>
      <origin rpy="0 0 0" xyz="0 0 0"/>
      <material name="White"/>
      <geometry>
        <mesh filename="package://moonbot_description/meshesY/M_Assy2.STL" scale="0.001 0.001 0.001"/>
      </geometry>
    </visual>
    <collision>
      <origin rpy="0 0 0" xyz="0 0 0"/>
      <geometry>
        <mesh filename="package://moonbot_description/meshesY/M_Assy2.STL" scale="0.001 0.001 0.001"/>
      </geometry>
    </collision>
    <inertial>
      <origin rpy="0 0 0" xyz="0 0 0"/>
      <mass value="0.99"/>
      <inertia ixx="0.1" ixy="0.1" ixz="0.1" iyy="0.1" iyz="0.1" izz="0.1"/>
    </inertial>
  </link>
  <!-- joint 3 -->
  <joint name="b_right_leg_joint3" type="revolute">
    <axis rpy="0 0 0" xyz="0 1 0"/>
    <limit effort="1000.0" lower="-2.792526803190927" upper="2.0943951023931953" velocity="3.141592653589793"/>
    <origin rpy="0 0 0" xyz="0.0 0 -0.28"/>
    <parent link="b_right_leg_link2"/>
    <child link="b_right_leg_link3"/>
  </joint>
  <link name="b_right_leg_link3">
    <visual>
      <origin rpy="0 0 0" xyz="0 0 0"/>
      <material name="White"/>
      <geometry>
        <mesh filename="package://moonbot_description/meshesY/M_Assy3.STL" scale="0.001 0.001 0.001"/>
      </geometry>
    </visual>
    <collision>
      <origin rpy="0 0 0" xyz="0 0 0"/>
      <geometry>
        <mesh filename="package://moonbot_description/meshesY/M_Assy3.STL" scale="0.001 0.001 0.001"/>
      </geometry>
    </collision>
    <inertial>
      <origin rpy="0 0 0" xyz="0 0 0"/>
      <mass value="0.43"/>
      <inertia ixx="0.1" ixy="0.1" ixz="0.1" iyy="0.1" iyz="0.1" izz="0.1"/>
    </inertial>
  </link>
  <!-- <xacro:transmission joint="${prefix}leg_joint1"/>
    <xacro:transmission joint="${prefix}leg_joint2"/>
    <xacro:transmission joint="${prefix}leg_joint3"/> -->
</robot>
